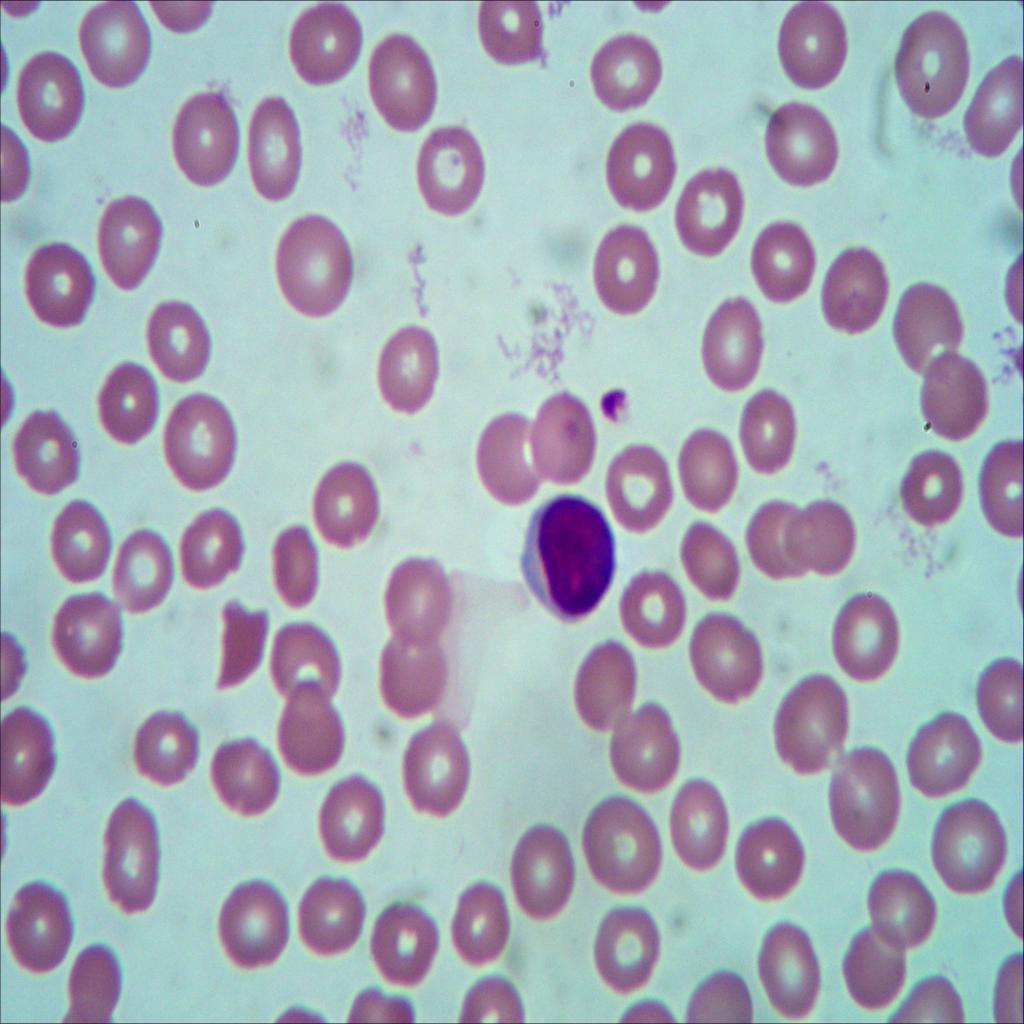Eritrosit: (888, 8, 983, 133), (924, 796, 1013, 918), (360, 22, 440, 150), (393, 716, 480, 830), (777, 672, 862, 785), (496, 816, 581, 928), (154, 388, 238, 500), (578, 787, 667, 891), (604, 688, 687, 798), (5, 44, 89, 152), (578, 894, 664, 998), (582, 219, 664, 328), (274, 212, 356, 320), (894, 706, 999, 790), (212, 878, 296, 982), (526, 384, 602, 498), (751, 915, 830, 1024), (91, 796, 165, 912), (361, 316, 443, 420), (438, 868, 520, 972), (768, 0, 854, 98), (663, 766, 736, 880), (361, 898, 449, 992), (368, 626, 456, 720), (88, 186, 166, 292), (672, 510, 750, 616), (755, 96, 838, 194), (416, 116, 494, 220), (668, 165, 748, 266), (268, 608, 347, 710), (72, 0, 157, 94), (581, 24, 665, 119), (818, 587, 902, 682), (808, 241, 884, 346), (860, 856, 942, 953), (202, 730, 287, 822), (894, 274, 962, 388), (130, 293, 212, 387), (168, 90, 242, 194), (832, 752, 908, 853), (276, 676, 352, 776), (600, 112, 676, 212), (309, 456, 384, 556), (692, 612, 769, 709), (620, 555, 694, 655), (0, 877, 75, 974), (285, 0, 360, 97), (462, 0, 554, 79), (692, 296, 767, 392), (2, 403, 80, 495), (48, 588, 124, 682), (378, 549, 451, 645), (746, 212, 816, 312), (736, 810, 808, 907), (475, 400, 536, 514), (672, 423, 743, 520), (602, 433, 672, 531), (574, 636, 644, 734), (24, 236, 100, 326), (88, 356, 164, 446), (966, 52, 1024, 168), (244, 94, 306, 202), (315, 768, 387, 861), (104, 524, 174, 618), (784, 492, 864, 574), (207, 592, 272, 692), (0, 710, 67, 803), (924, 349, 991, 441), (42, 497, 112, 585), (848, 920, 912, 1015), (299, 870, 365, 960), (130, 704, 200, 785), (975, 644, 1024, 755), (61, 931, 127, 1013), (893, 450, 958, 533), (746, 495, 802, 588), (745, 384, 800, 468), (980, 446, 1024, 548), (275, 530, 323, 604)
Limfosit: (518, 492, 628, 624)
Platelet: (592, 381, 632, 428)
